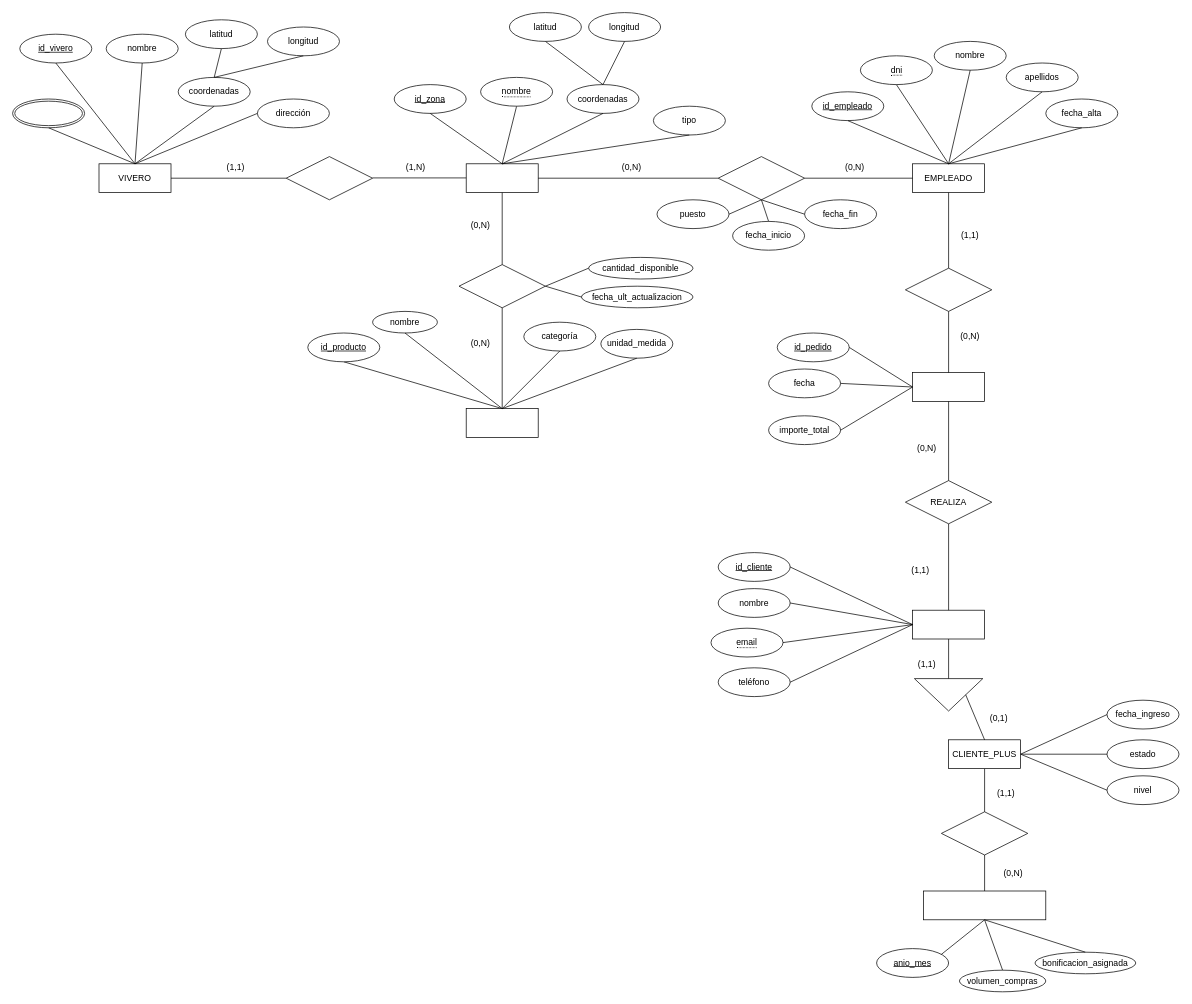
Image size: 1192x1004. Some labels were removed from this diagram. The centre of each missing label's shape, as x and y in pixels:
"ASIGNADO_A" belongs at (x=761, y=178).
"BONIFICACIÓN_MENSUAL" belongs at (x=984, y=905).
"CLIENTE" belongs at (x=948, y=624).
"GESTIONA" belongs at (x=948, y=289).
"INVENTARIO" belongs at (x=501, y=286).
"PEDIDO" belongs at (x=948, y=386).
"PRODUCTO" belongs at (x=501, y=422).
"teléfonos" belongs at (x=48, y=113).
"TIENE" belongs at (x=329, y=178).
"TIENE_BONUS" belongs at (x=984, y=833).
"ZONA" belongs at (x=501, y=178).
